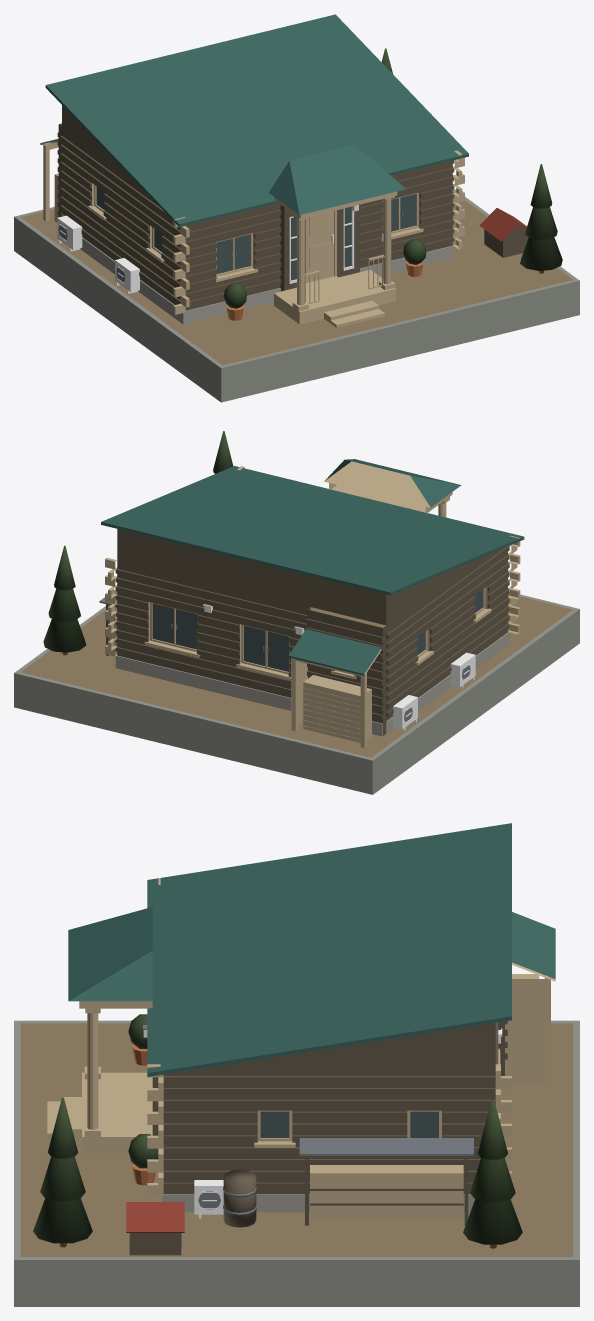
The model's file is site_hut3_close.fbx.
The picture shows the model from 3 angles, top to bottom: view 1: azimuth 30°, elevation 25°; view 2: azimuth 150°, elevation 25°; view 3: azimuth 270°, elevation 25°; orthographic projection. The views are drawn at different scales.
Visible parts, largest first — view 1: a2015.site_hut3.close; view 2: a2015.site_hut3.close; view 3: a2015.site_hut3.close.
Part boxes in pixels (bbox=[...]): a2015.site_hut3.close: bbox=[14, 14, 579, 402]; a2015.site_hut3.close: bbox=[14, 431, 579, 794]; a2015.site_hut3.close: bbox=[14, 823, 579, 1306].
Bounding box in the file's own units: 10.4 × 5.05 × 10.4.
